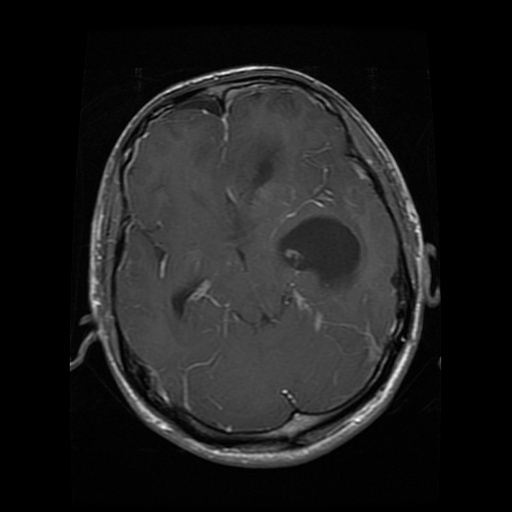glioma: (277, 212, 366, 287)
